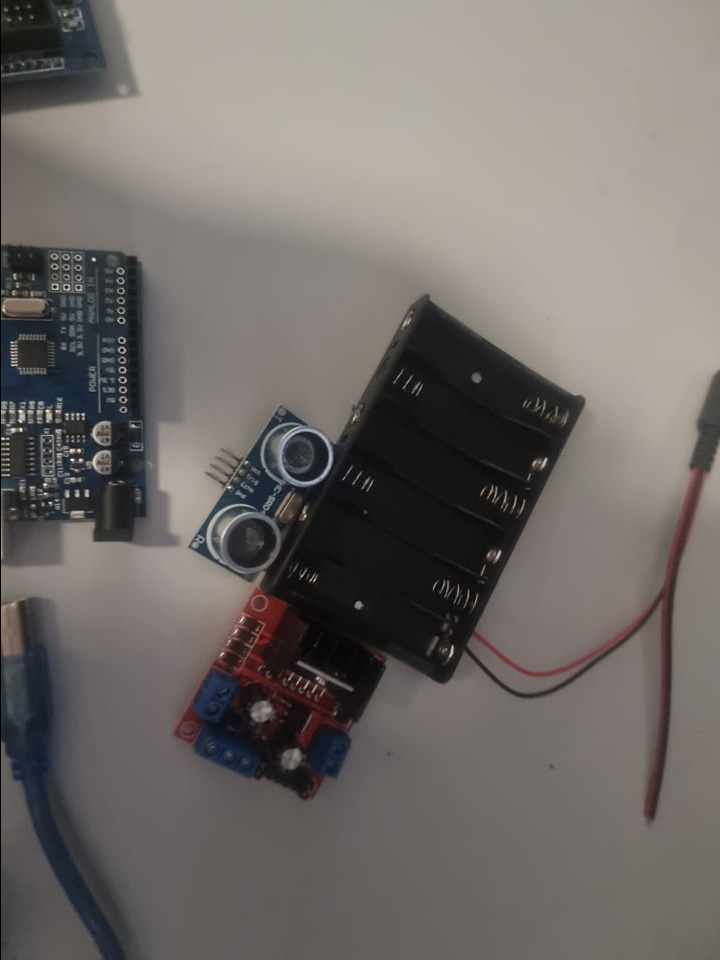BATTERY BOX: (269, 292, 591, 684)
MOTOR: (172, 586, 382, 822)
SENSOR: (184, 399, 335, 576)
UNO R3: (0, 248, 153, 539)
